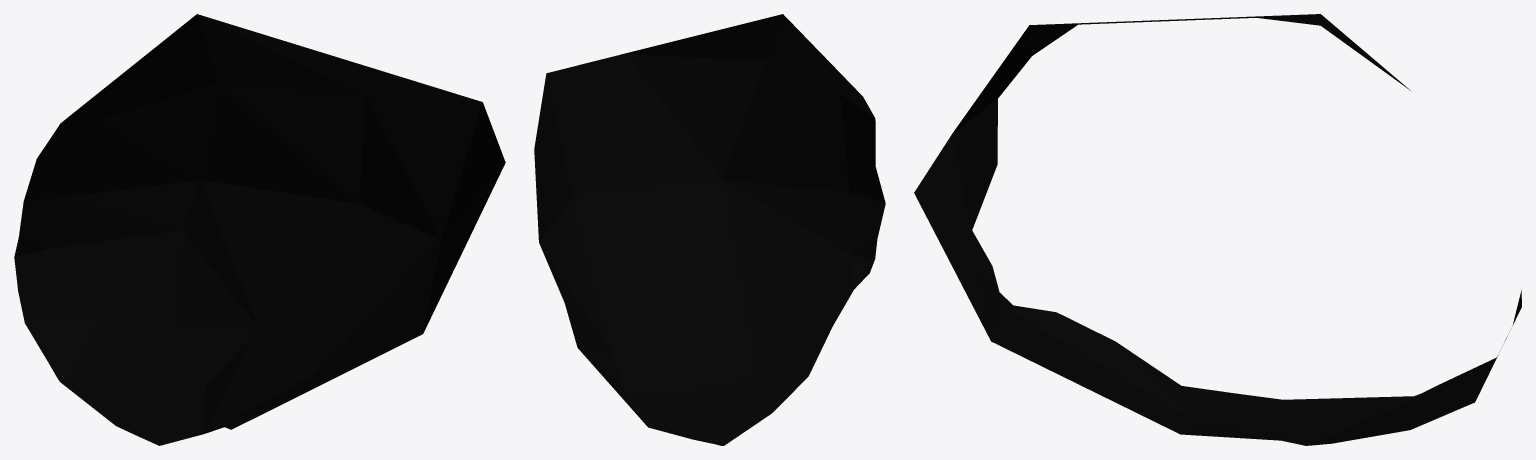
3 views of the same model, side by side, from view 1: azimuth 30°, elevation 25°; view 2: azimuth 150°, elevation 25°; view 3: azimuth 270°, elevation 25° (orthographic). The views are drawn at different scales.
Size of the model in its own units: 3.05 by 3.48 by 4.35.
1 material, 1 textured.
